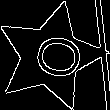O_W: (19, 29, 82, 83)
